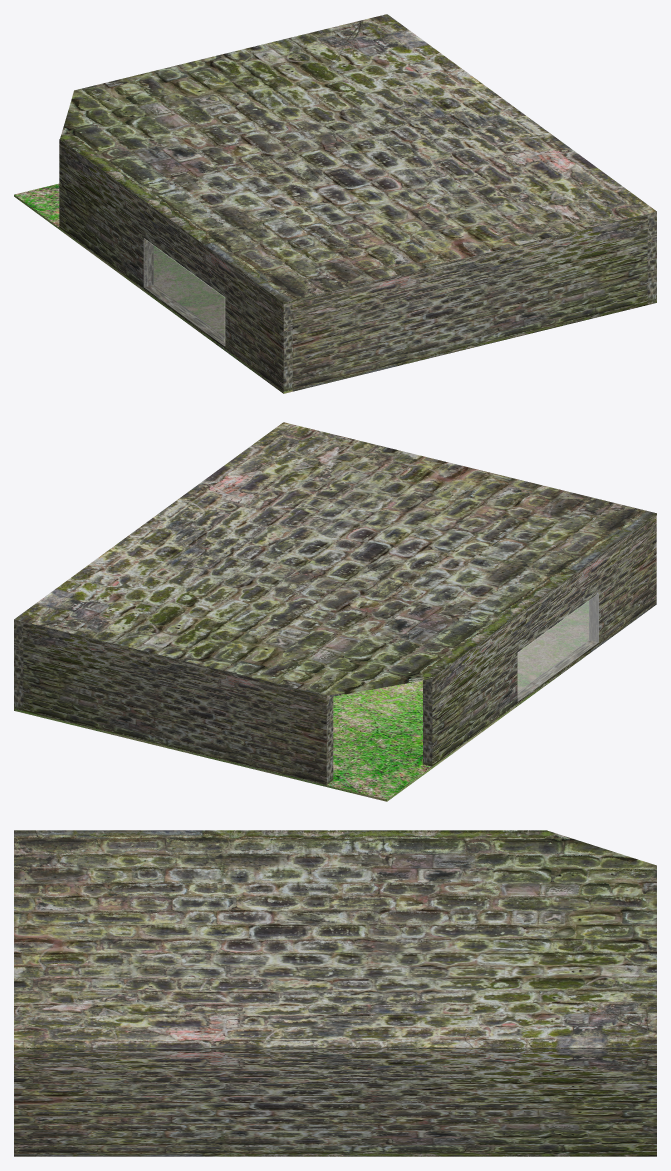
File: PandaRoomIMPROVED.fbx
3 renders of one model, top to bottom at view 1: azimuth 30°, elevation 25°; view 2: azimuth 150°, elevation 25°; view 3: azimuth 270°, elevation 25°, orthographic. The views are drawn at different scales.
Parts seen in each view (by area): view 1: Wall.004, Wall.002, Wall.006, Wall.001, Wall.005, Cube, Wall; view 2: Wall.004, Wall.006, Wall.003, Wall.001, Wall.005, Cube, Wall; view 3: Wall.004, Wall, Wall.006.
Boxes of the visible parts, x1,y1,x2,y2 form: Wall.004: [59, 14, 656, 304]; Wall.002: [292, 215, 647, 391]; Wall.006: [62, 15, 656, 303]; Wall.001: [59, 139, 292, 393]; Wall.005: [14, 183, 383, 393]; Cube: [143, 238, 225, 346]; Wall: [647, 212, 656, 304]; Wall.004: [14, 422, 656, 697]; Wall.006: [14, 422, 655, 696]; Wall.003: [23, 623, 333, 786]; Wall.001: [423, 516, 656, 766]; Wall.005: [14, 601, 588, 801]; Cube: [517, 593, 598, 701]; Wall: [14, 621, 23, 710]; Wall.004: [14, 830, 656, 1048]; Wall: [14, 1049, 656, 1156]; Wall.006: [14, 830, 656, 1048].
Bounding box in the file's own units: 40.02 × 9.38 × 50.
